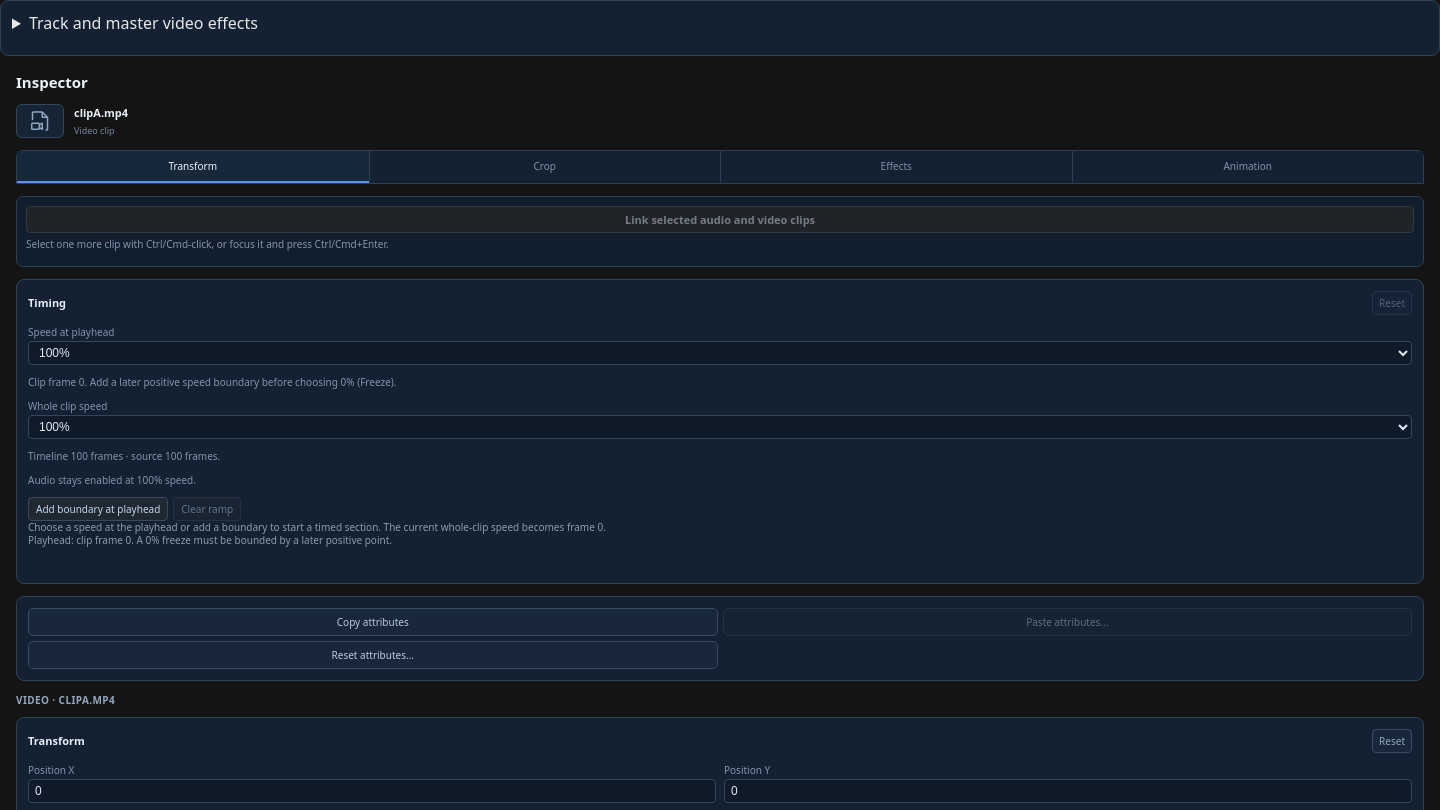
Scenario: Inspector › Escape reverts the draft to the committed value
Replace the text in the number field with test id "inspector-y" with "99" at (1068, 790), box [724,778,1412,802]
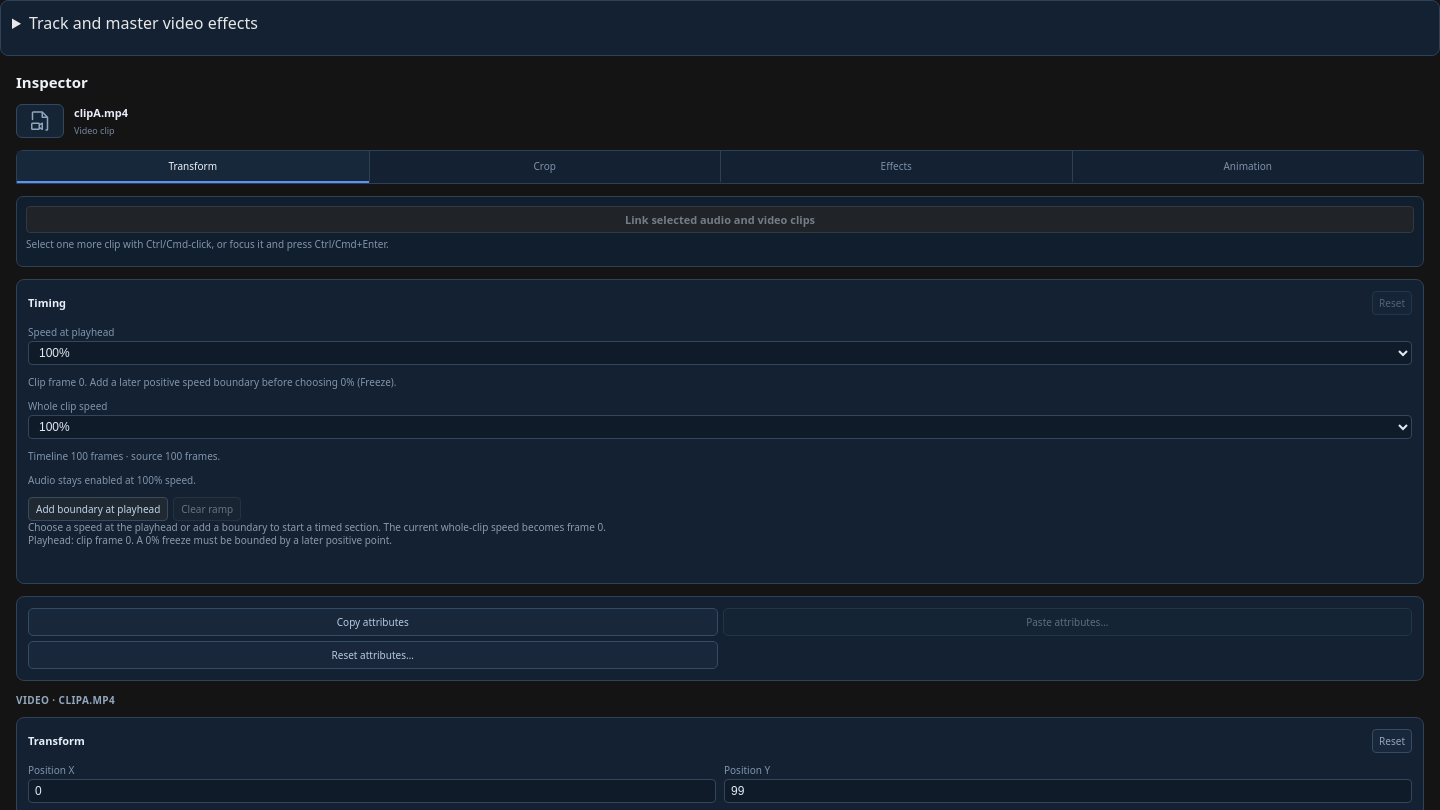
Press Escape in the number field with test id "inspector-y", box [724,778,1412,802]
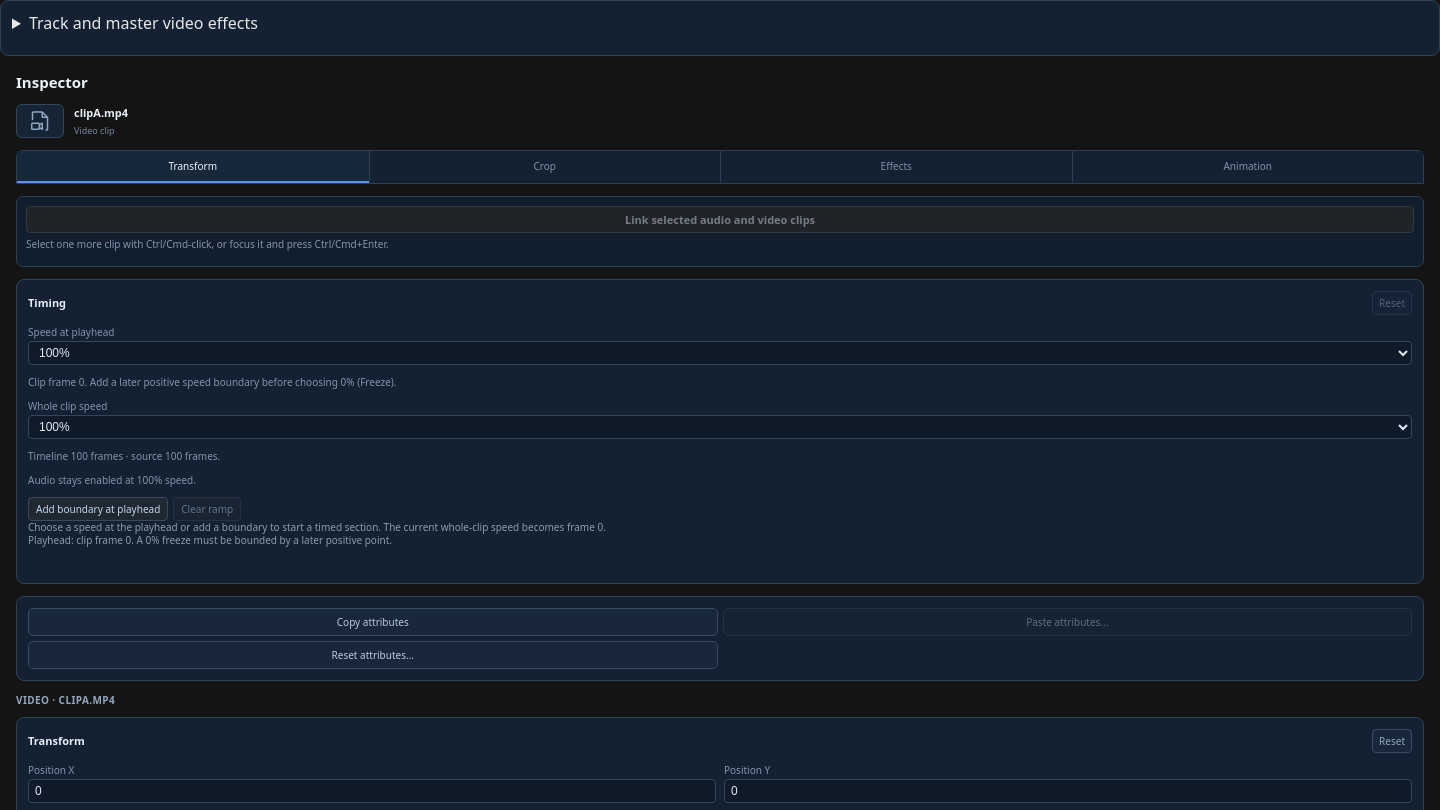
Result: the number field with test id "inspector-y" holds "0" at [724,778,1412,802]
